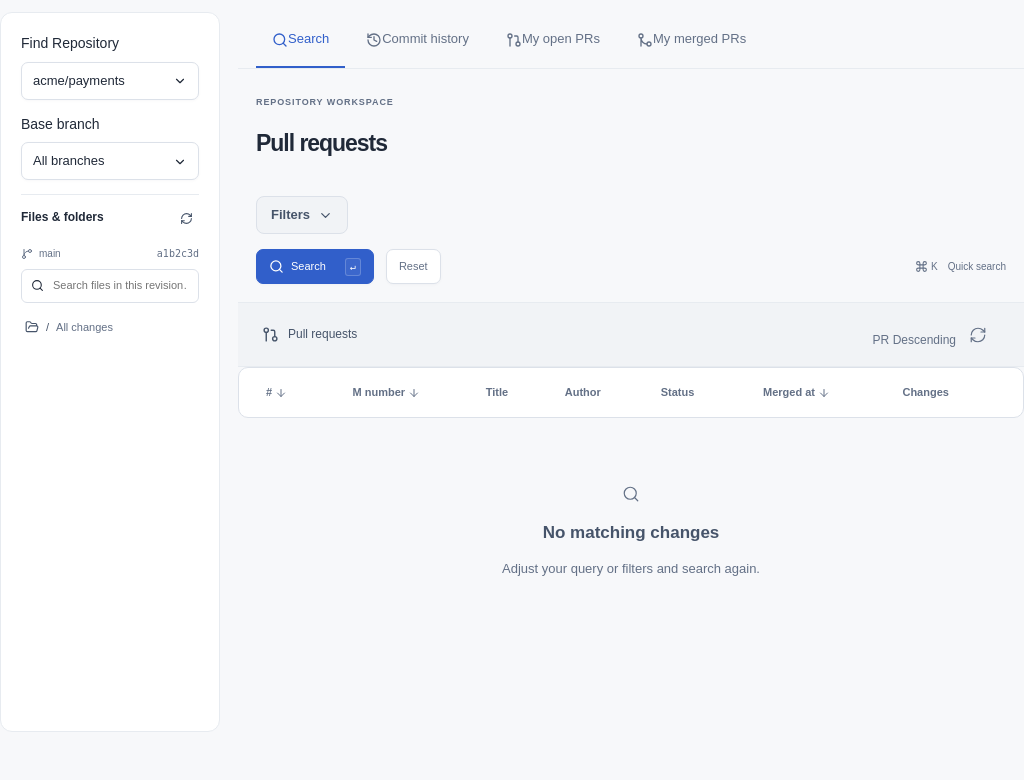
Test: CR-111: 필터는 기본 collapsed이고, 접어도 값이 유지된다 › 최초 진입 시 collapsed이고, 토글하면 검색어 입력이 나타난다
Click the button "Filters".
click(302, 215)  # box [256,196,348,234]
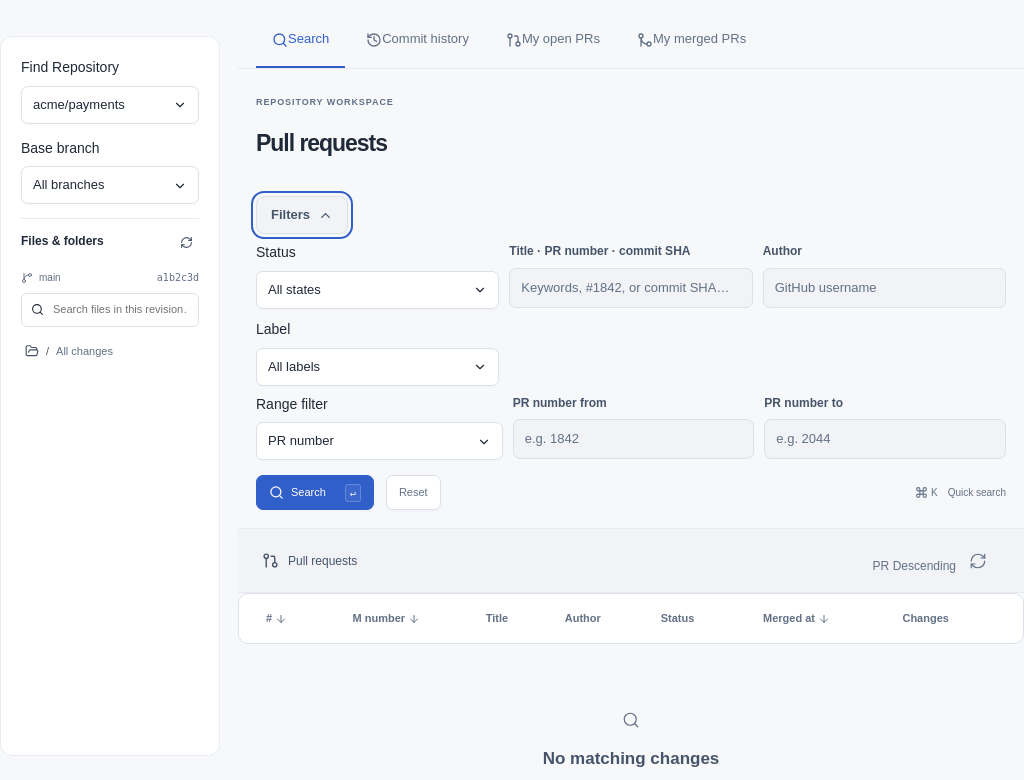
Result: the button "Filters" is expanded at [256,196,348,234]
Result: the field labelled "Title · PR number · commit SHA" is shown at [509,268,753,308]
